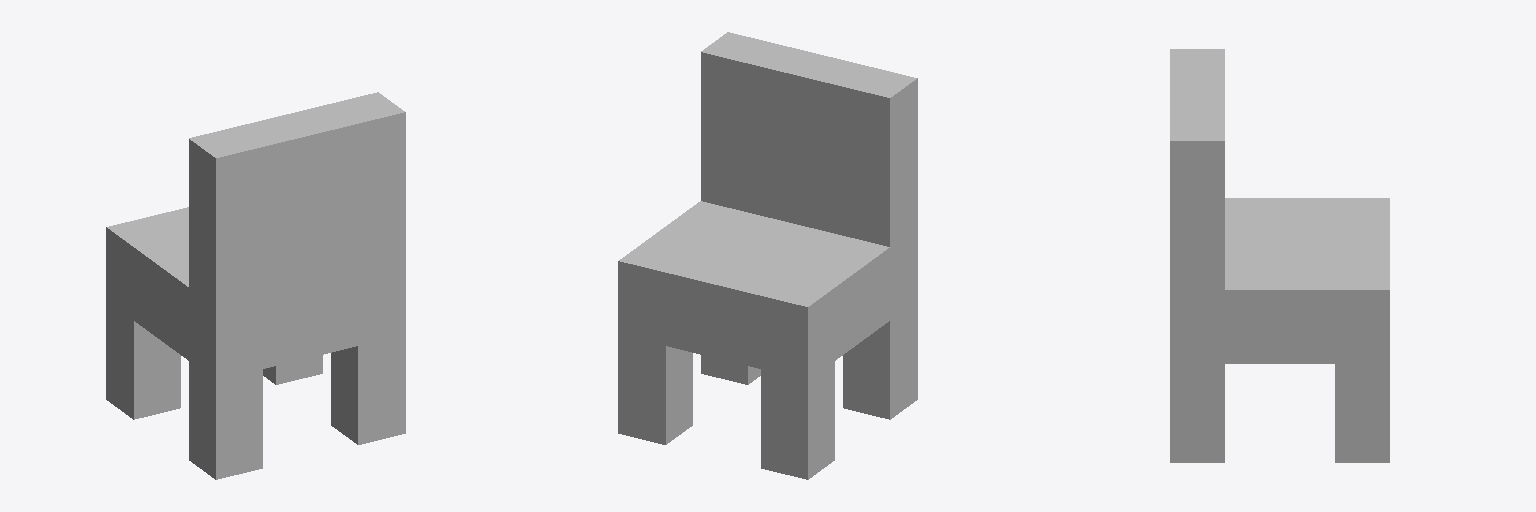
The model's file is cadeira.obj.
The picture shows the model from 3 angles: view 1: azimuth 30°, elevation 25°; view 2: azimuth 150°, elevation 25°; view 3: azimuth 270°, elevation 25°; orthographic projection.
Parts seen in each view (by area): view 1: Cube; view 2: Cube; view 3: Cube.
Boxes of the visible parts, x1=… form: Cube: x1=106, y1=92, x2=405, y2=479; Cube: x1=618, y1=32, x2=917, y2=479; Cube: x1=1170, y1=49, x2=1389, y2=462.
Size of the model in its own units: 2 by 3.24 by 2.